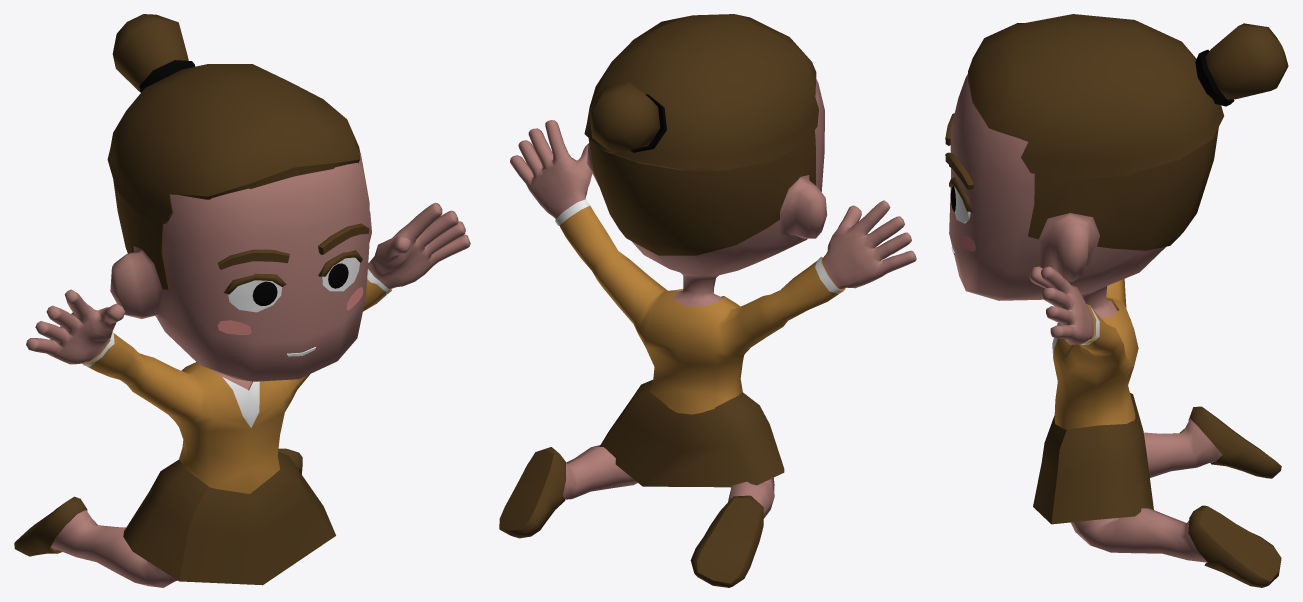
The model's file is Personaje_juzgado.fbx.
3 renders of one model, left to right at view 1: azimuth 30°, elevation 25°; view 2: azimuth 150°, elevation 25°; view 3: azimuth 270°, elevation 25°, orthographic. The views are drawn at different scales.
Visible parts, largest first — view 1: body.019, hair7, body.018, shirt3.015, eyesbase2.011, shoes2.002, eyebrows1.015, eyes6.009, cheeks.003; view 2: hair7, body.019, shirt3.015, body.018, shoes2.002; view 3: hair7, body.019, body.018, shirt3.015, shoes2.002, eyebrows1.015, eyesbase2.011.
Part boxes in pixels (<box>): body.019: <box>26,152,470,587</box>; hair7: <box>107,14,360,289</box>; body.018: <box>123,451,335,585</box>; shirt3.015: <box>82,268,391,493</box>; eyesbase2.011: <box>223,250,362,312</box>; shoes2.002: <box>14,448,302,556</box>; eyebrows1.015: <box>218,223,369,269</box>; eyes6.009: <box>252,263,348,305</box>; cheeks.003: <box>217,287,363,334</box>; hair7: <box>584,14,818,255</box>; body.019: <box>510,79,916,518</box>; shirt3.015: <box>555,199,845,414</box>; body.018: <box>599,380,784,487</box>; shoes2.002: <box>499,447,763,587</box>; hair7: <box>968,14,1288,250</box>; body.019: <box>949,74,1222,562</box>; body.018: <box>1033,393,1153,524</box>; shirt3.015: <box>1052,279,1138,429</box>; shoes2.002: <box>1188,406,1281,587</box>; eyebrows1.015: <box>945,113,973,189</box>; eyesbase2.011: <box>949,165,972,223</box>.
Size of the model in its own units: 129 by 143 by 88.15.
